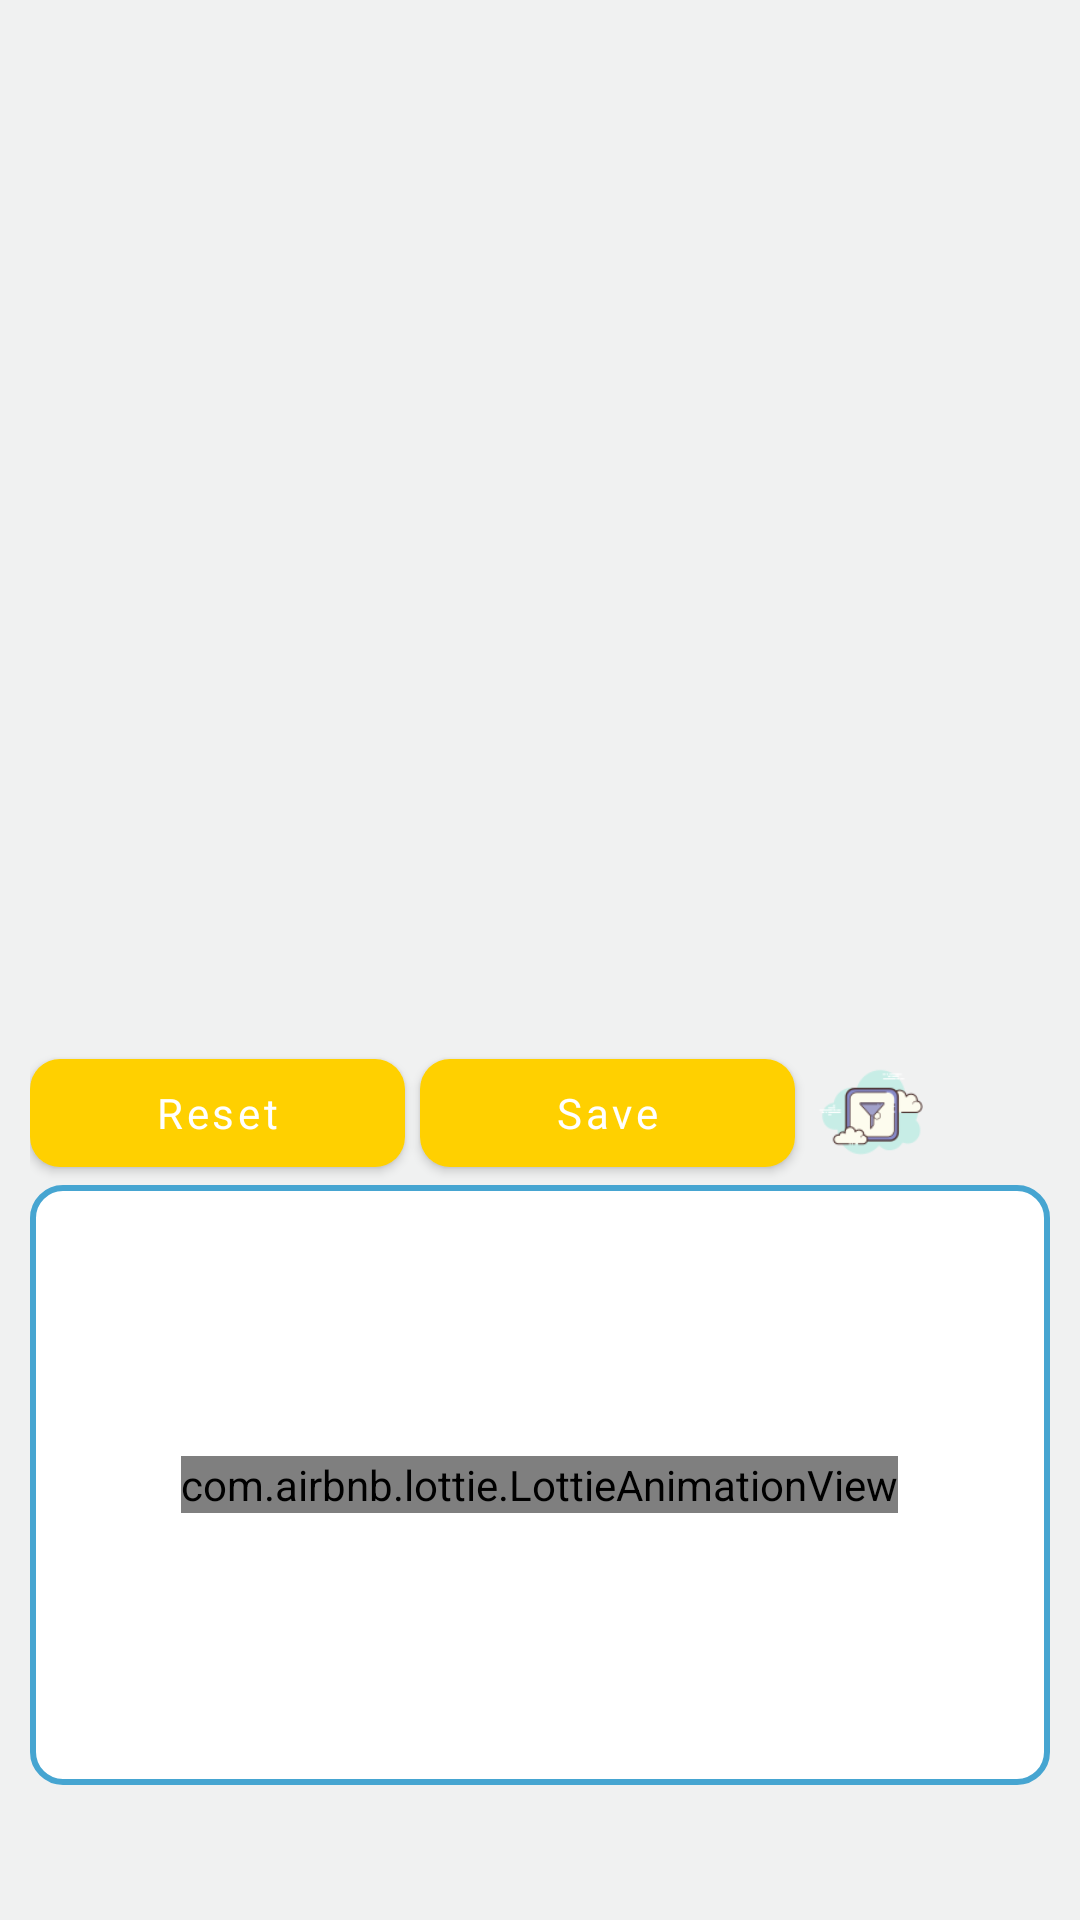

Point at icon controls on the screen. Image size 1080px×1920px, points as (x,y).
filter: (872,1112)
